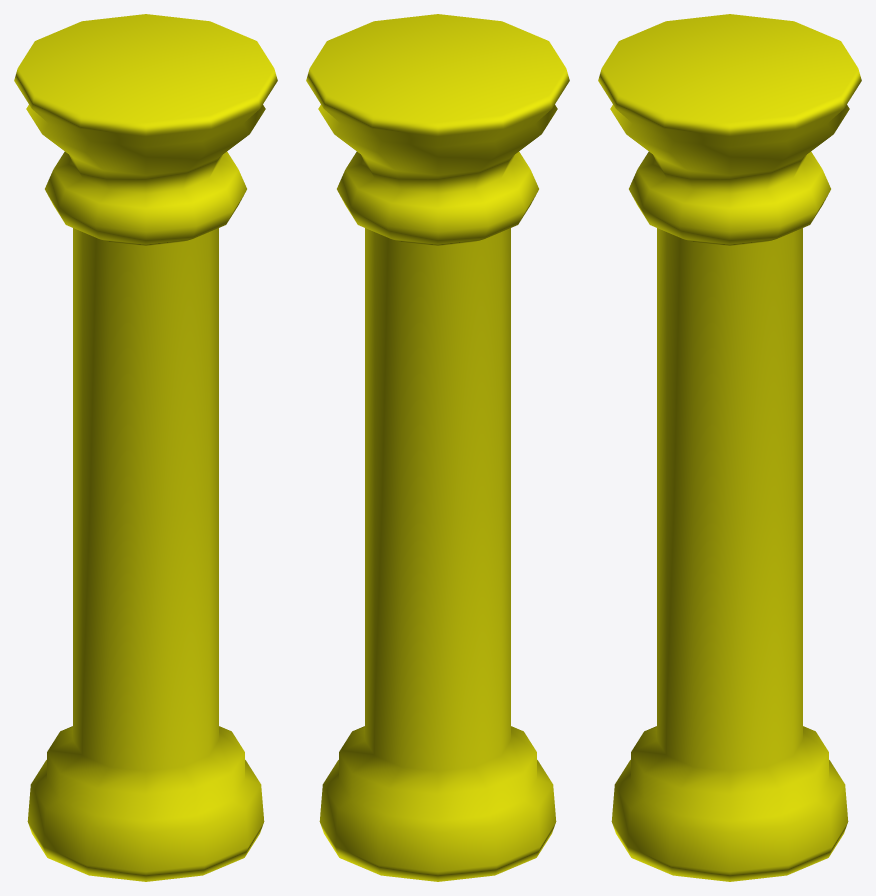
File: S_Pillar_02.fbx
3 views of the same model, side by side, from view 1: azimuth 30°, elevation 25°; view 2: azimuth 150°, elevation 25°; view 3: azimuth 270°, elevation 25° (orthographic).
Parts seen in each view (by area): view 1: S_Pillar_02; view 2: S_Pillar_02; view 3: S_Pillar_02.
Part boxes in pixels (x1,y1,x2,y2): S_Pillar_02: (14, 14, 277, 881); S_Pillar_02: (306, 14, 569, 881); S_Pillar_02: (598, 14, 861, 881).
Bounding box in the file's own units: 47.93 × 154 × 47.93.
